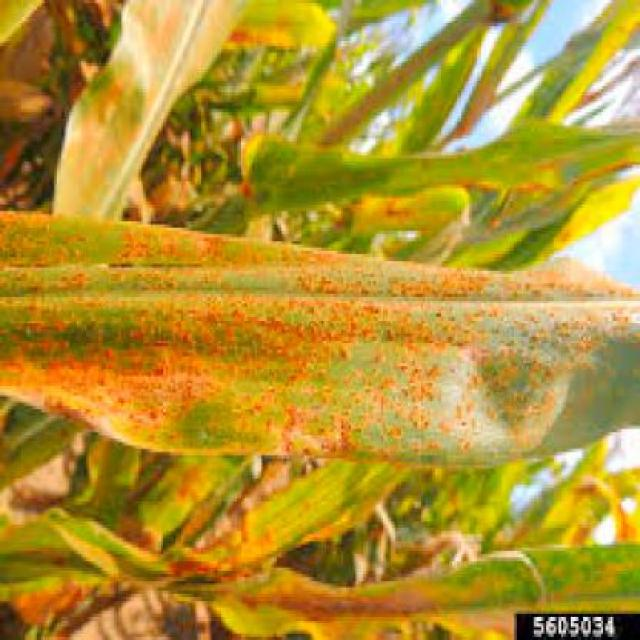Corn_Rust: (0, 206, 640, 479)
